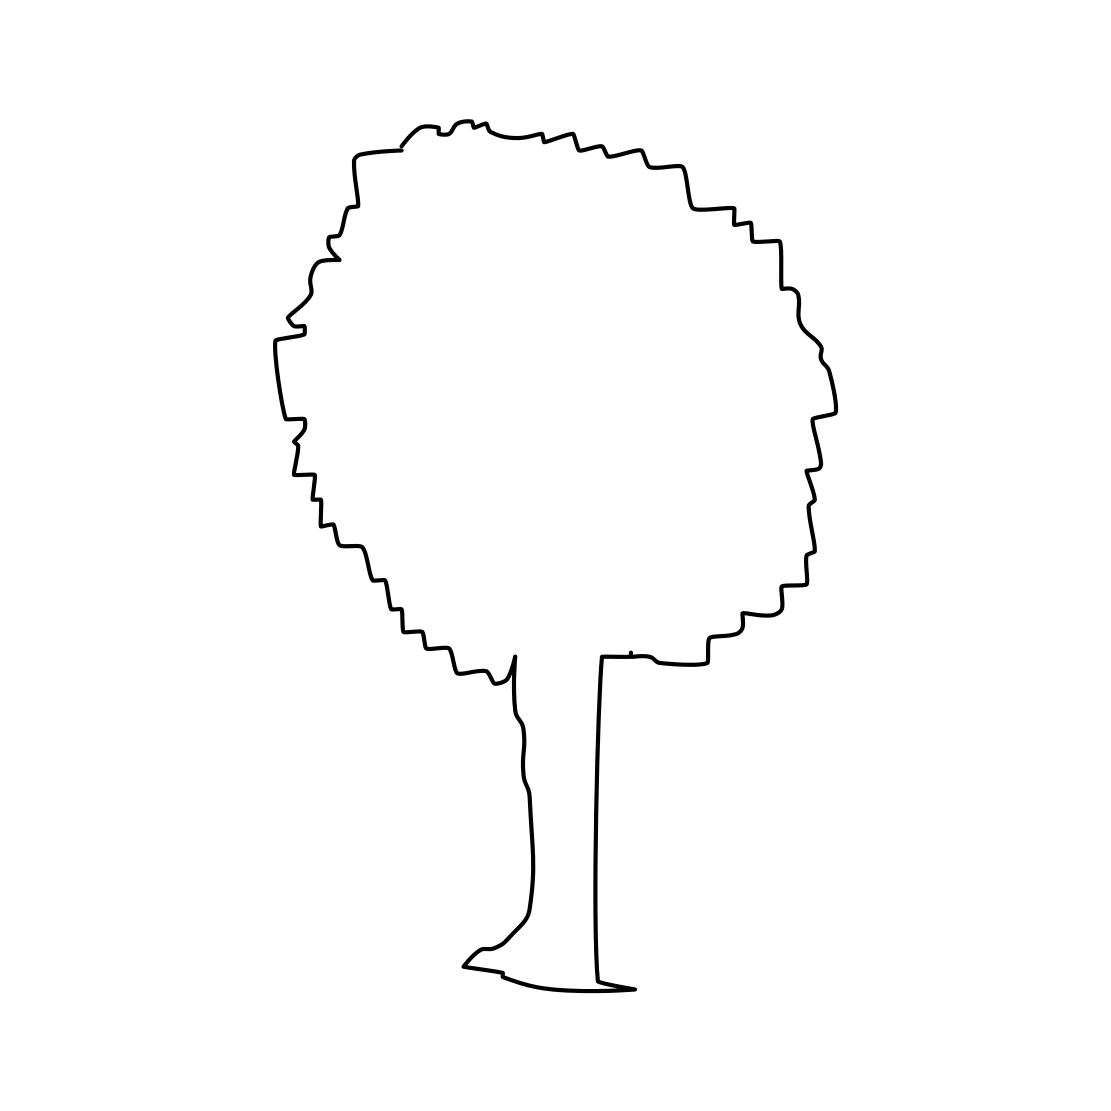Tree: (255, 65, 850, 1007)
